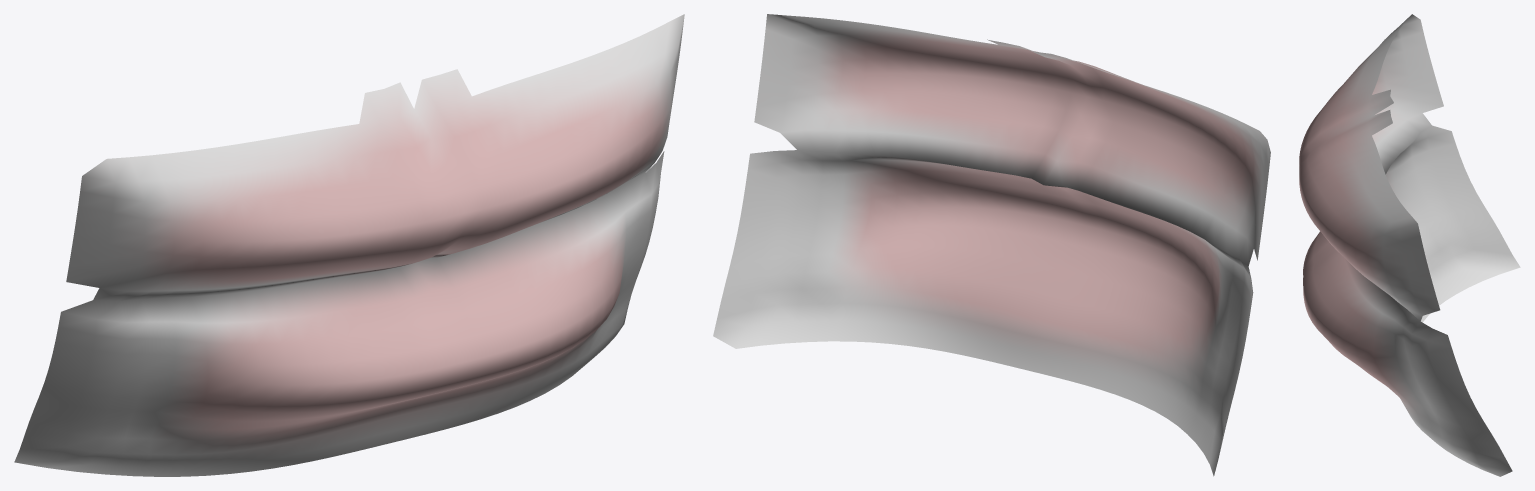
File: levres_femme.glb
The picture shows the model from 3 angles, left to right: view 1: azimuth 30°, elevation 25°; view 2: azimuth 150°, elevation 25°; view 3: azimuth 270°, elevation 25°; orthographic projection. The views are drawn at different scales.
Parts seen in each view (by area): view 1: levres_femme; view 2: levres_femme; view 3: levres_femme.
Part boxes in pixels (x1,y1,x2,y2): levres_femme: (14,14,684,476); levres_femme: (713,14,1270,476); levres_femme: (1299,14,1520,476).
Size of the model in its own units: 0.0569 by 0.0334 by 0.0246.
